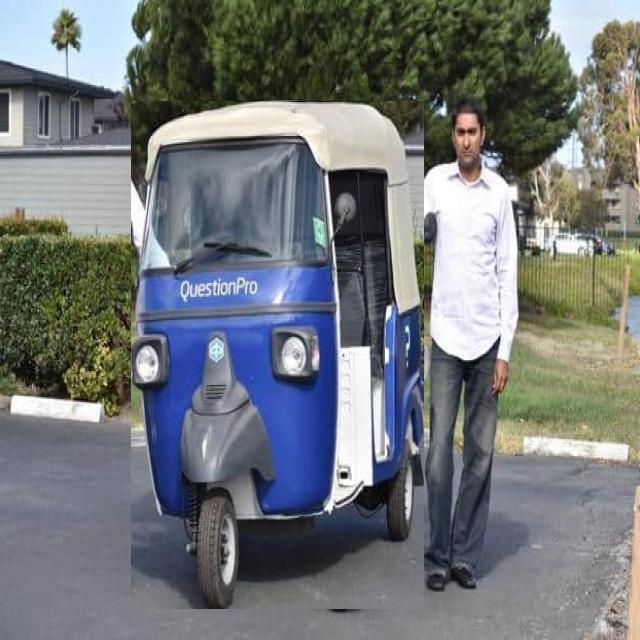autorickshaw: (131, 102, 424, 609)
